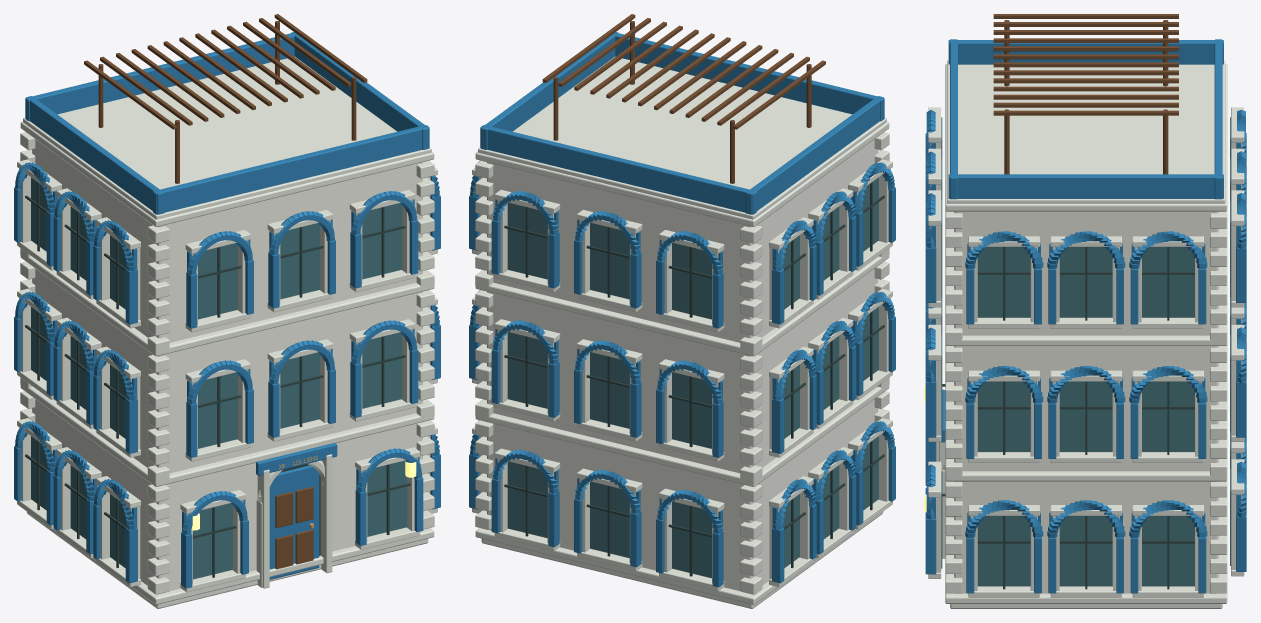
Rendered from tunisie-3.glb.
The picture shows the model from 3 angles, left to right: view 1: azimuth 30°, elevation 25°; view 2: azimuth 150°, elevation 25°; view 3: azimuth 270°, elevation 25°; orthographic projection. The views are drawn at different scales.
Visible parts, largest first — view 1: tunisie-3_Dressed stone.004, tunisie-3_Regional painted wood.004, tunisie-3_Masonry plaster.004, tunisie-3_Window blue, tunisie-3_Walnut, tunisie-3_Forged midnight; view 2: tunisie-3_Dressed stone.004, tunisie-3_Regional painted wood.004, tunisie-3_Masonry plaster.004, tunisie-3_Window blue, tunisie-3_Walnut, tunisie-3_Forged midnight; view 3: tunisie-3_Dressed stone.004, tunisie-3_Regional painted wood.004, tunisie-3_Window blue, tunisie-3_Masonry plaster.004, tunisie-3_Walnut, tunisie-3_Forged midnight.
Boxes of the visible parts, <box> form: tunisie-3_Dressed stone.004: <box>17,56,437,608</box>; tunisie-3_Regional painted wood.004: <box>14,32,440,588</box>; tunisie-3_Masonry plaster.004: <box>32,139,422,590</box>; tunisie-3_Window blue: <box>31,177,407,579</box>; tunisie-3_Walnut: <box>84,14,367,569</box>; tunisie-3_Forged midnight: <box>25,182,410,577</box>; tunisie-3_Dressed stone.004: <box>472,56,892,608</box>; tunisie-3_Regional painted wood.004: <box>469,32,895,587</box>; tunisie-3_Masonry plaster.004: <box>487,139,877,590</box>; tunisie-3_Window blue: <box>507,177,878,577</box>; tunisie-3_Walnut: <box>542,14,825,183</box>; tunisie-3_Forged midnight: <box>504,182,884,576</box>; tunisie-3_Dressed stone.004: <box>928,60,1244,608</box>; tunisie-3_Regional painted wood.004: <box>925,39,1246,593</box>; tunisie-3_Window blue: <box>941,117,1230,586</box>; tunisie-3_Masonry plaster.004: <box>954,211,1218,593</box>; tunisie-3_Walnut: <box>993,14,1178,174</box>; tunisie-3_Forged midnight: <box>942,247,1194,589</box>.
Bounding box in the file's own units: 14.12 × 19.87 × 12.18.
